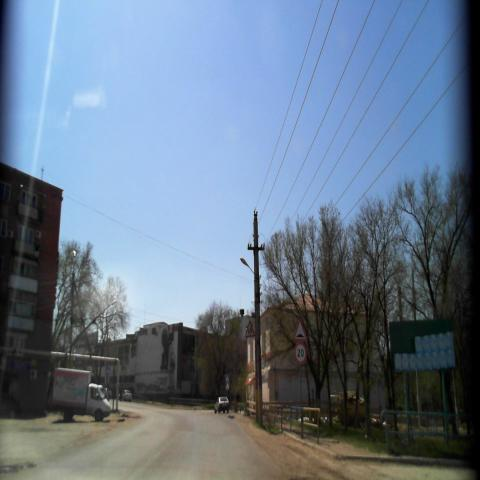1_17: (294, 320, 308, 341)
